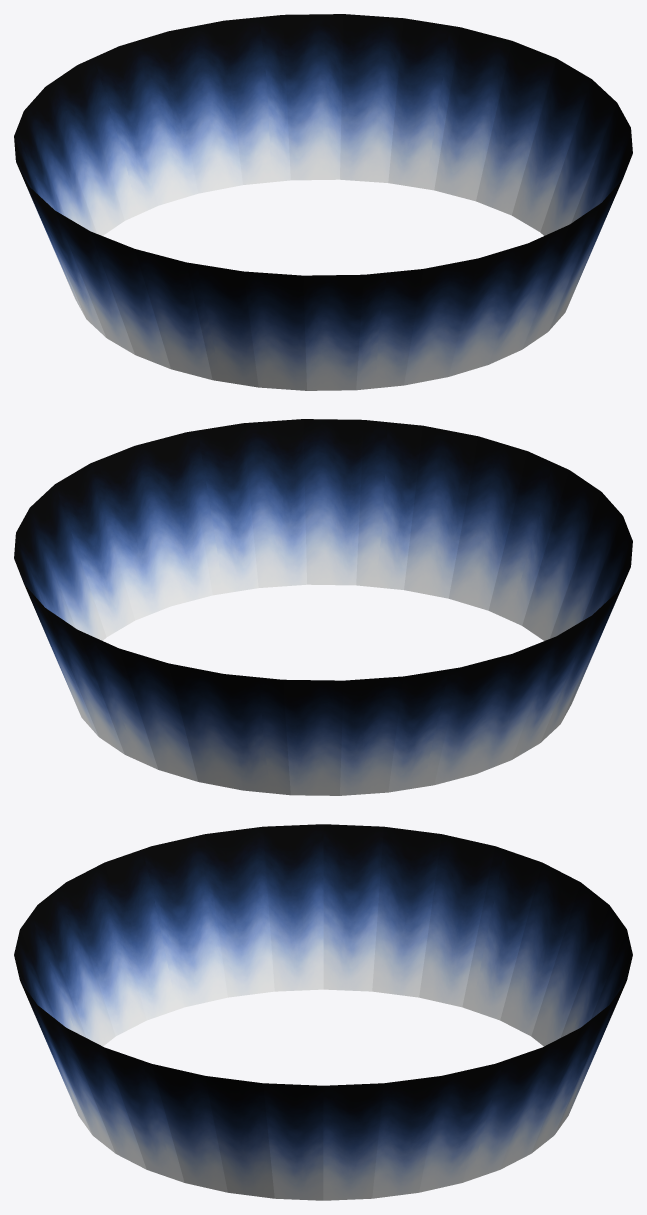
3 views of the same model, one above another, from view 1: azimuth 30°, elevation 25°; view 2: azimuth 150°, elevation 25°; view 3: azimuth 270°, elevation 25° (orthographic).
Parts seen in each view (by area): view 1: 円柱; view 2: 円柱; view 3: 円柱.
Part boxes in pixels (x1,y1,x2,y2): 円柱: [14, 14, 632, 390]; 円柱: [14, 419, 632, 795]; 円柱: [14, 824, 632, 1200].
Bounding box in the file's own units: 4 × 1 × 4.
1 material, 1 textured.
